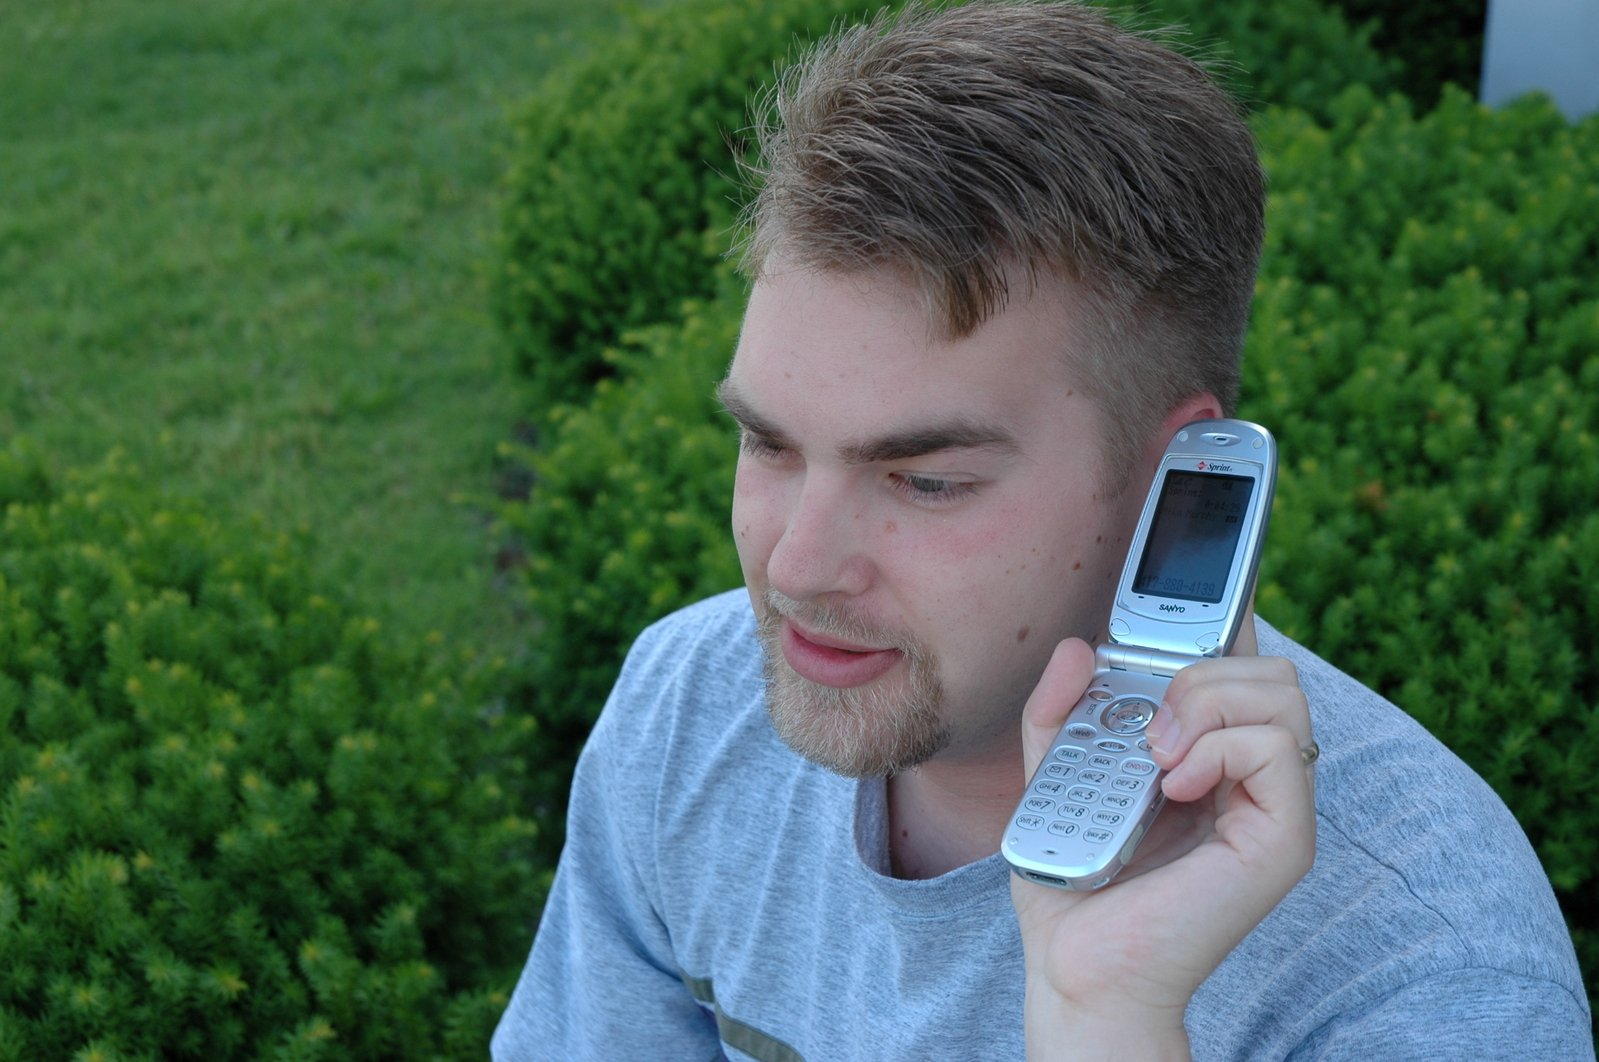phone: (1010, 405, 1279, 888)
talk: (714, 335, 1305, 1043)
